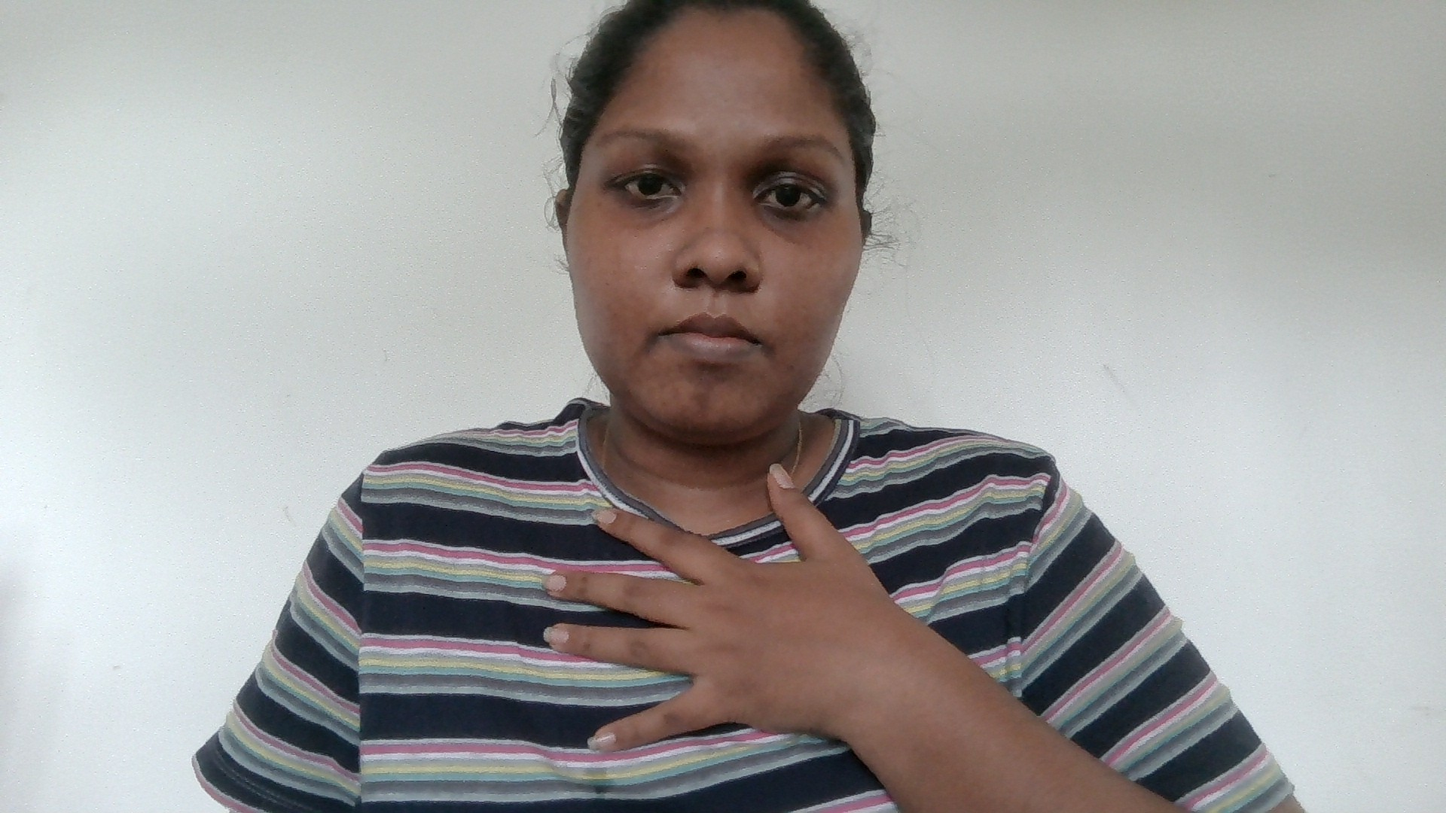Please: (535, 452, 890, 785)
